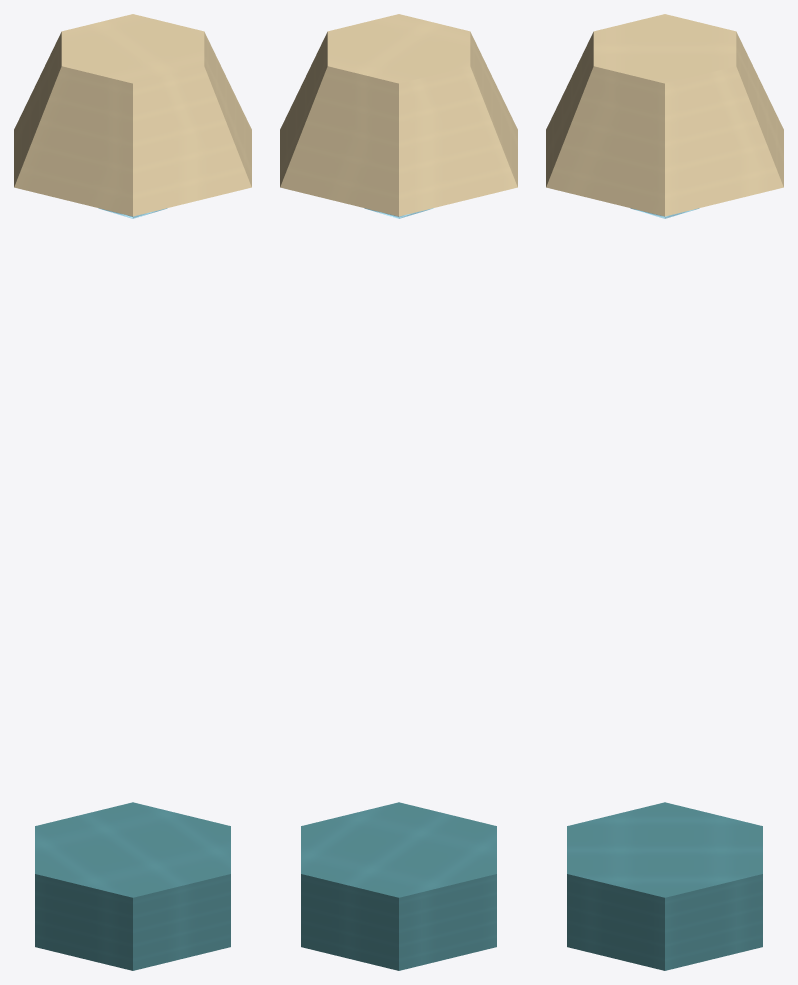
File: atlas100-atompunk-util01.lod2.glb
3 views of the same model, side by side, from view 1: azimuth 30°, elevation 25°; view 2: azimuth 150°, elevation 25°; view 3: azimuth 270°, elevation 25° (orthographic).
Parts seen in each view (by area): view 1: atlas100-atompunk-util01:part-002, atlas100-atompunk-util01:part-000; view 2: atlas100-atompunk-util01:part-002, atlas100-atompunk-util01:part-000; view 3: atlas100-atompunk-util01:part-002, atlas100-atompunk-util01:part-000.
Boxes of the visible parts, bbox=[...] form: atlas100-atompunk-util01:part-002: bbox=[14, 14, 251, 216]; atlas100-atompunk-util01:part-000: bbox=[35, 802, 230, 970]; atlas100-atompunk-util01:part-002: bbox=[280, 14, 517, 216]; atlas100-atompunk-util01:part-000: bbox=[301, 802, 496, 970]; atlas100-atompunk-util01:part-002: bbox=[546, 14, 783, 216]; atlas100-atompunk-util01:part-000: bbox=[567, 802, 762, 970].
Size of the model in its own units: 0.68 by 2.39 by 0.5889.
Materials: 3 (3 with a texture image).
